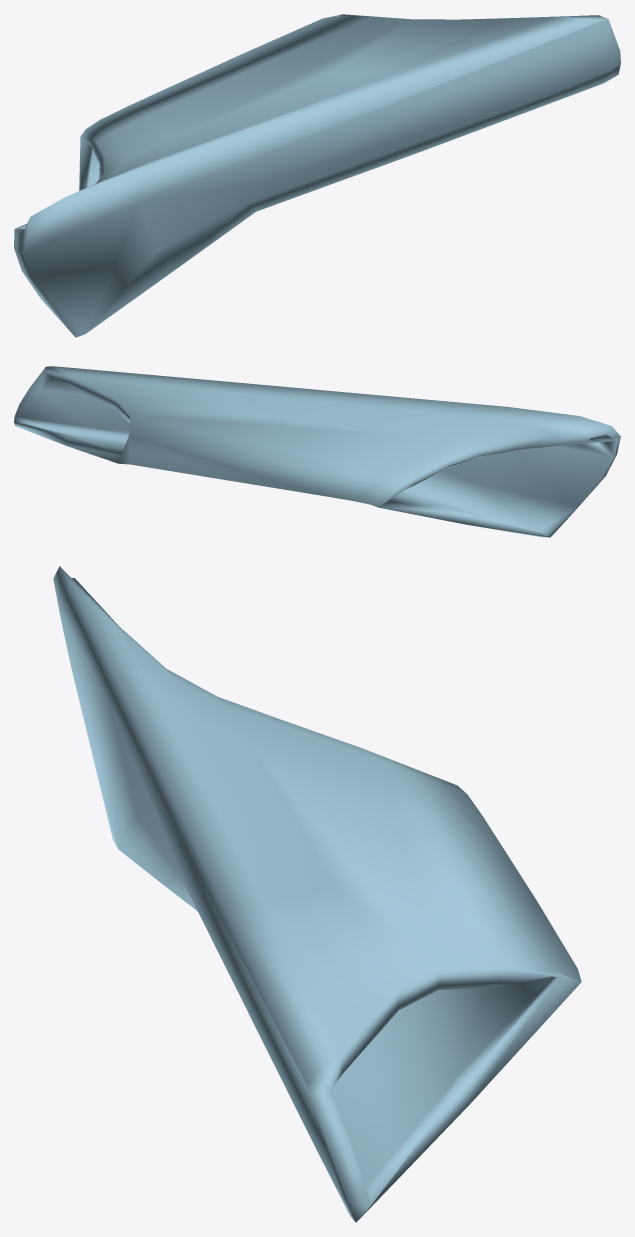
Rendered from articulacoes-transverse-ligament-of-knee-r.glb.
3 views of the same model, one above another, from view 1: azimuth 30°, elevation 25°; view 2: azimuth 150°, elevation 25°; view 3: azimuth 270°, elevation 25° (orthographic). The views are drawn at different scales.
Visible parts, largest first — view 1: Transverse ligament of knee.r; view 2: Transverse ligament of knee.r; view 3: Transverse ligament of knee.r.
Boxes of the visible parts, left/top/right/bottom form: Transverse ligament of knee.r: left=14, top=14, right=620, bottom=337; Transverse ligament of knee.r: left=14, top=366, right=620, bottom=537; Transverse ligament of knee.r: left=53, top=566, right=581, bottom=1222.
Size of the model in its own units: 0.0285 by 0.00612 by 0.0123.
